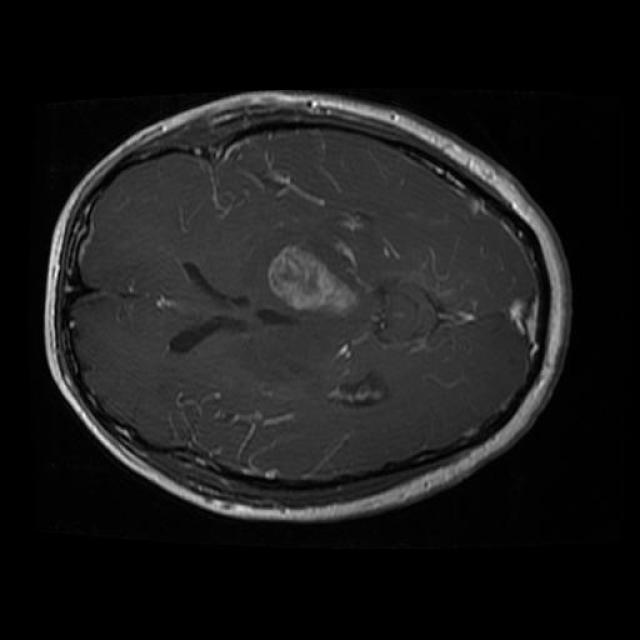Glioma: (268, 245, 358, 315)
